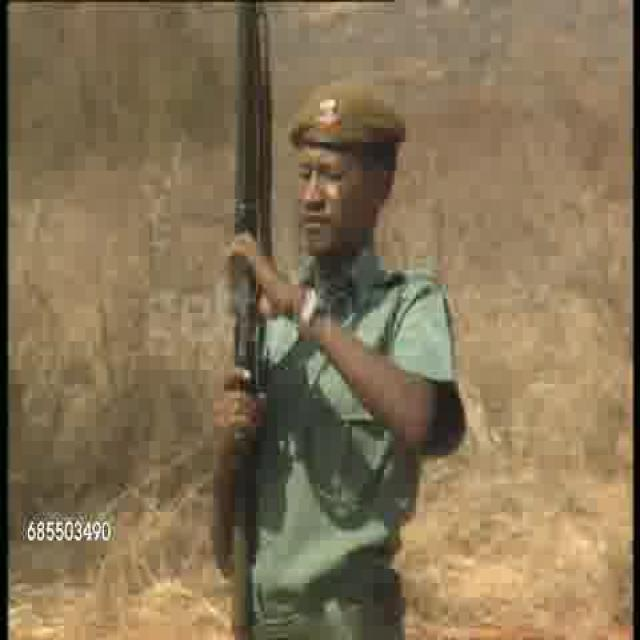poacher: (273, 79, 448, 588)
weapon: (234, 1, 258, 632)
